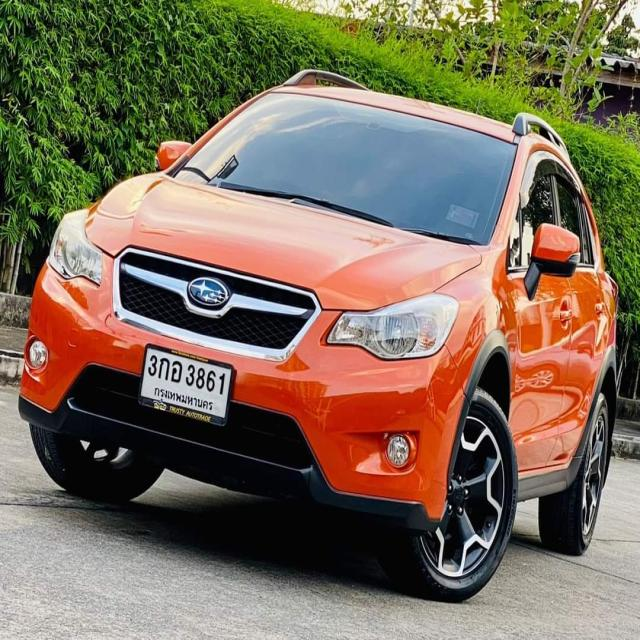license_plate: (140, 342, 234, 428)
